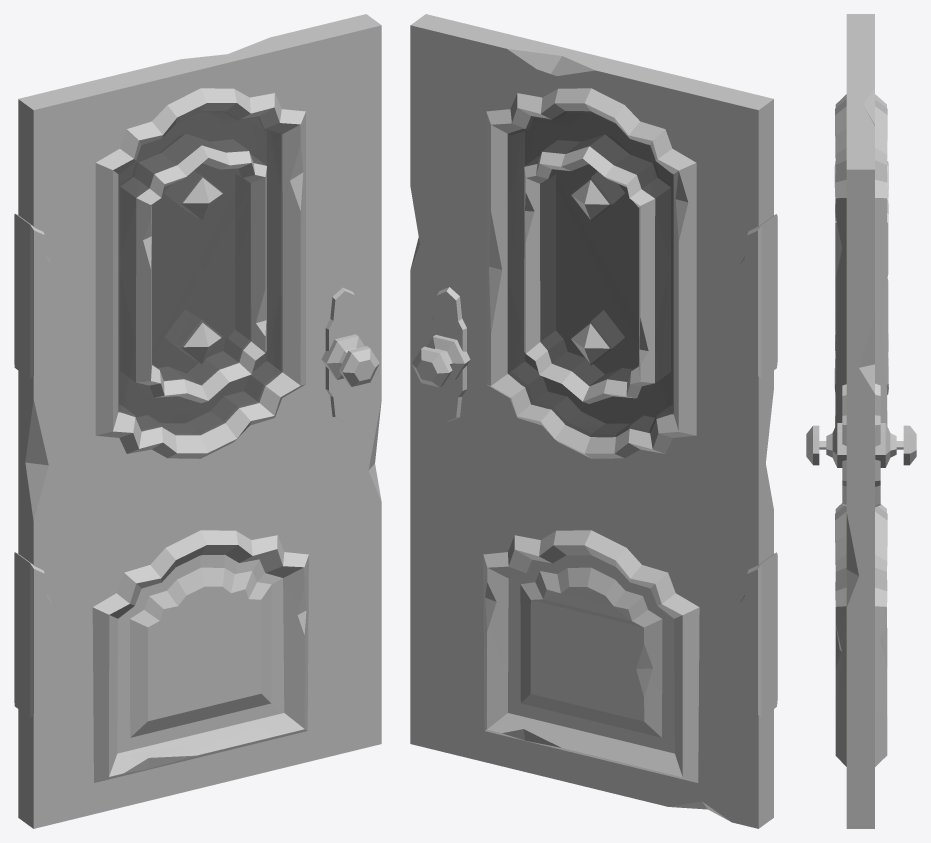
The model's file is SM_Bld_Door_02.fbx.
3 renders of one model, left to right at view 1: azimuth 30°, elevation 25°; view 2: azimuth 150°, elevation 25°; view 3: azimuth 270°, elevation 25°, orthographic. The views are drawn at different scales.
Visible parts, largest first — view 1: SM_Bld_Door_02; view 2: SM_Bld_Door_02; view 3: SM_Bld_Door_02.
Part boxes in pixels (bbox=[...]): SM_Bld_Door_02: bbox=[14, 14, 381, 828]; SM_Bld_Door_02: bbox=[410, 14, 777, 828]; SM_Bld_Door_02: bbox=[806, 14, 916, 828].
Size of the model in its own units: 101 by 197 by 29.94.
